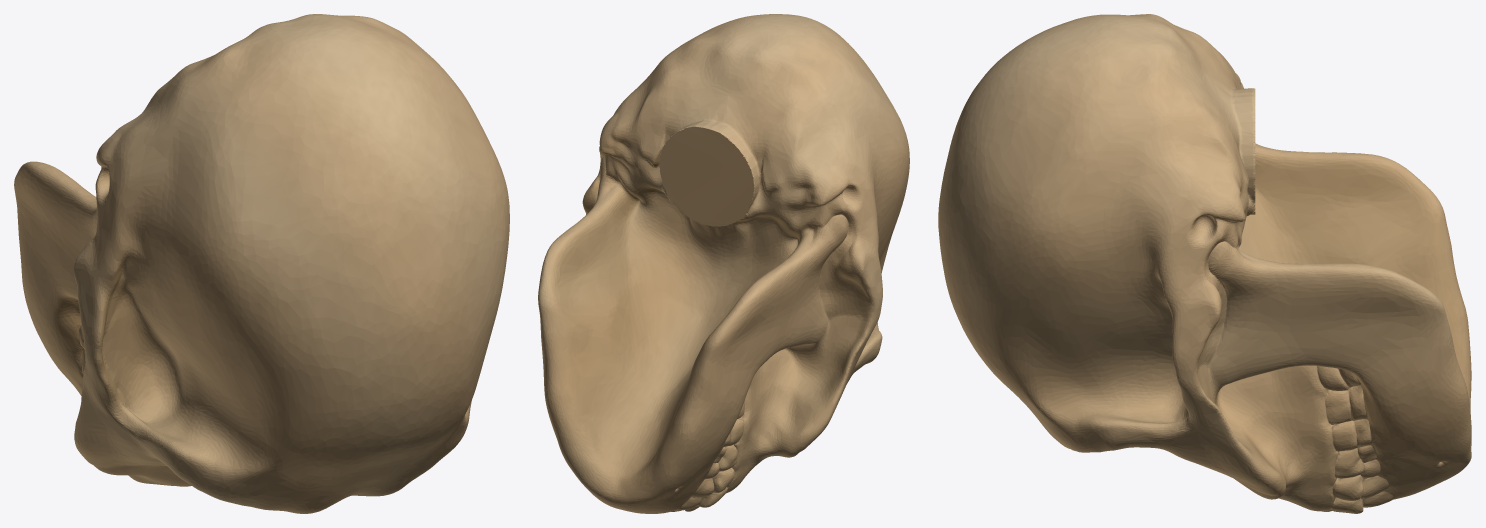
Rendered from rudolfensis.glb.
3 views of the same model, side by side, from view 1: azimuth 30°, elevation 25°; view 2: azimuth 150°, elevation 25°; view 3: azimuth 270°, elevation 25° (orthographic). The views are drawn at different scales.
Size of the model in its own units: 31.75 by 43.06 by 43.63.
